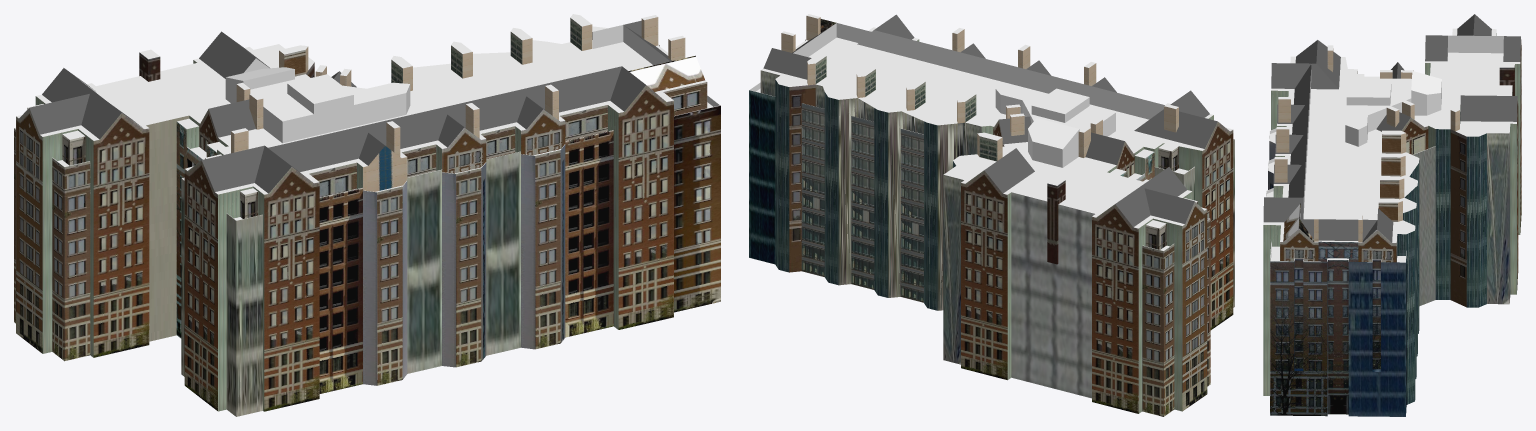
The model's file is 4601_SaratogaApartments.fbx.
3 views of the same model, side by side, from view 1: azimuth 30°, elevation 25°; view 2: azimuth 150°, elevation 25°; view 3: azimuth 270°, elevation 25° (orthographic). The views are drawn at different scales.
Visible parts, largest first — view 1: Group2, Group14, Group13, Group17, Group18, Group16; view 2: Group2, Group14, Group13, Group16, Group17, Group15, Group18; view 3: Group2, Group14, Group15, Group16, Group17, Group18, Group4, Group5, Group3, Group13, Group10.
Boxes of the visible parts, x1,y1,x2,y2 form: Group2: (14, 20, 720, 416); Group14: (225, 67, 410, 143); Group13: (279, 45, 308, 76); Group17: (510, 28, 532, 64); Group18: (570, 14, 592, 50); Group16: (451, 41, 472, 78); Group2: (749, 14, 1234, 416); Group14: (995, 86, 1115, 167); Group13: (977, 132, 1002, 161); Group16: (906, 79, 925, 110); Group17: (856, 66, 875, 97); Group15: (957, 92, 976, 123); Group18: (807, 54, 826, 85); Group2: (1263, 14, 1521, 416); Group14: (1345, 71, 1441, 146); Group15: (1382, 130, 1406, 153); Group16: (1381, 153, 1405, 176); Group17: (1380, 176, 1404, 199); Group18: (1378, 198, 1402, 221); Group4: (1276, 127, 1289, 152); Group5: (1274, 157, 1287, 182); Group3: (1278, 97, 1290, 122); Group13: (1450, 102, 1460, 131); Group10: (1386, 106, 1399, 127).
Size of what is drawn, in the model's own units: 3034 by 1284 by 1523.
